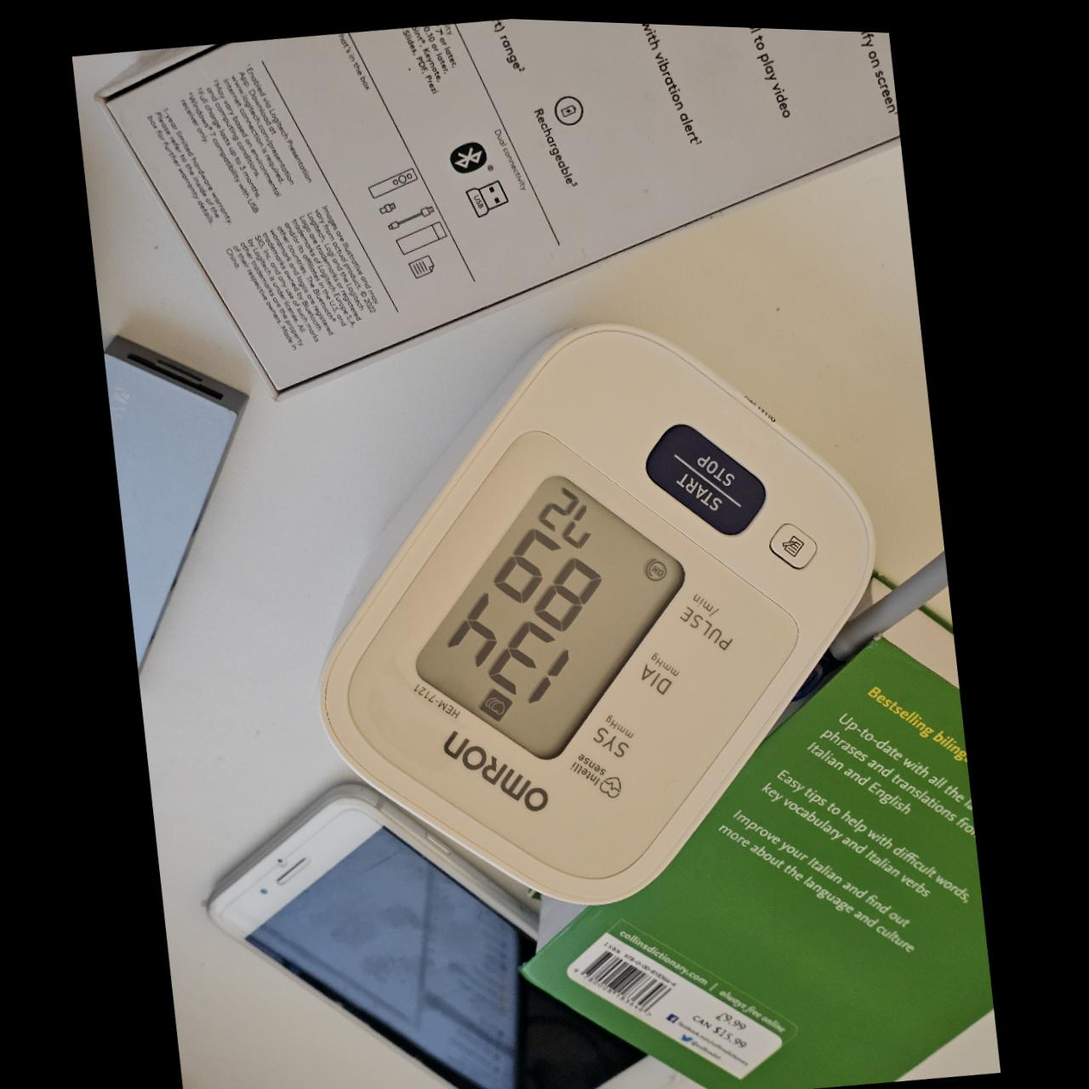blood pressure monitor: (254, 278, 923, 952)
